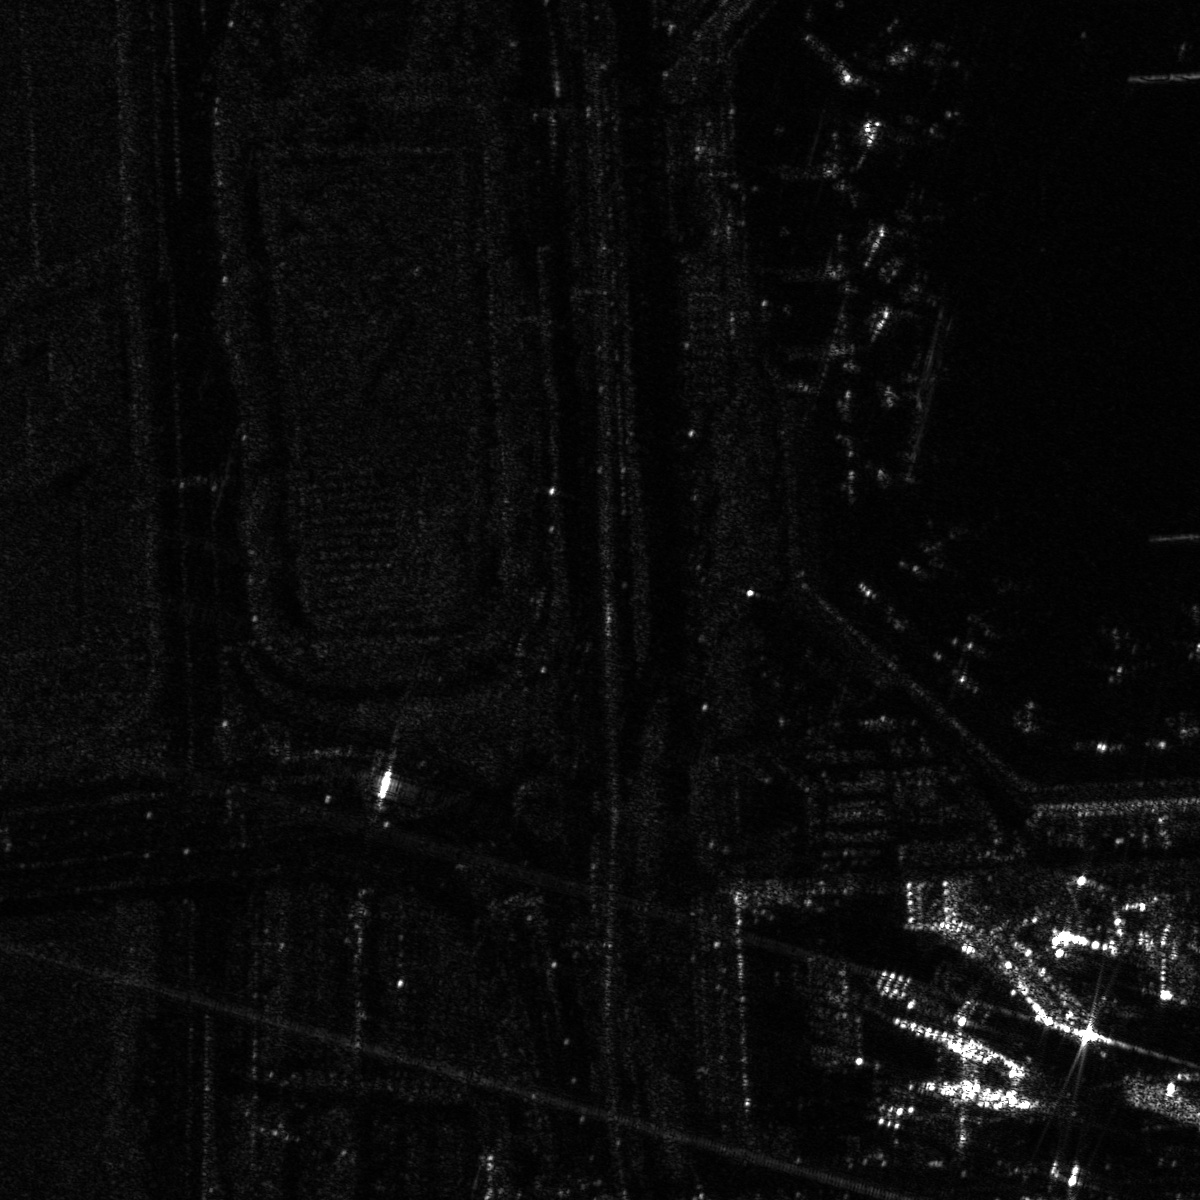A220: (879, 518, 1000, 584)
A320/321: (854, 171, 970, 268)
Boeing737: (1067, 626, 1173, 690)
